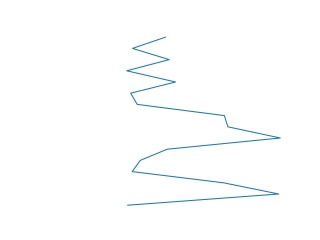majorRiverBedLagDeposit: (120, 34, 284, 206)
